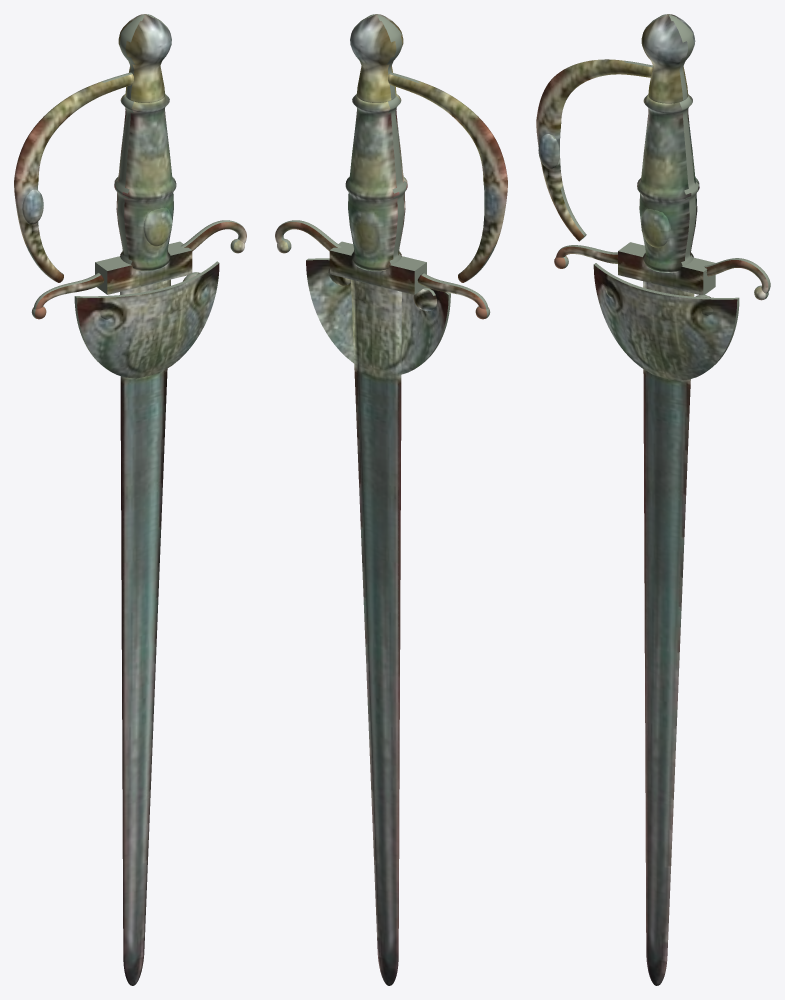
File: espada_de_bolivar.glb
3 views of the same model, side by side, from view 1: azimuth 30°, elevation 25°; view 2: azimuth 150°, elevation 25°; view 3: azimuth 330°, elevation 25° (orthographic).
Visible parts, largest first — view 1: espada_de_bolivar; view 2: espada_de_bolivar; view 3: espada_de_bolivar.
Part boxes in pixels (x1,y1,x2,y2): espada_de_bolivar: [14, 14, 246, 985]; espada_de_bolivar: [275, 14, 507, 985]; espada_de_bolivar: [536, 14, 770, 985].
Bounding box in the file's own units: 0.2509 × 1 × 0.0608.
Materials: 1 (1 with a texture image).
